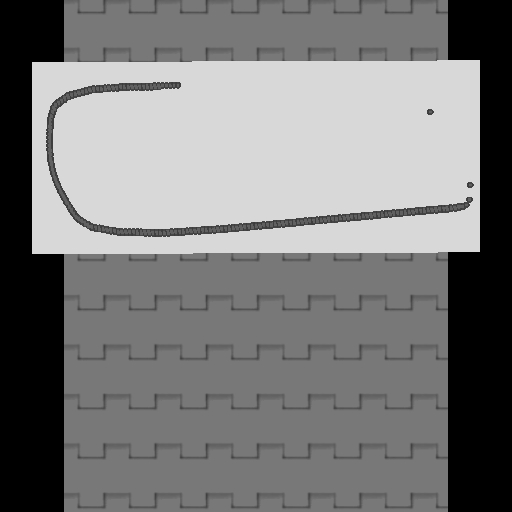Defect: (178, 77, 427, 118)
